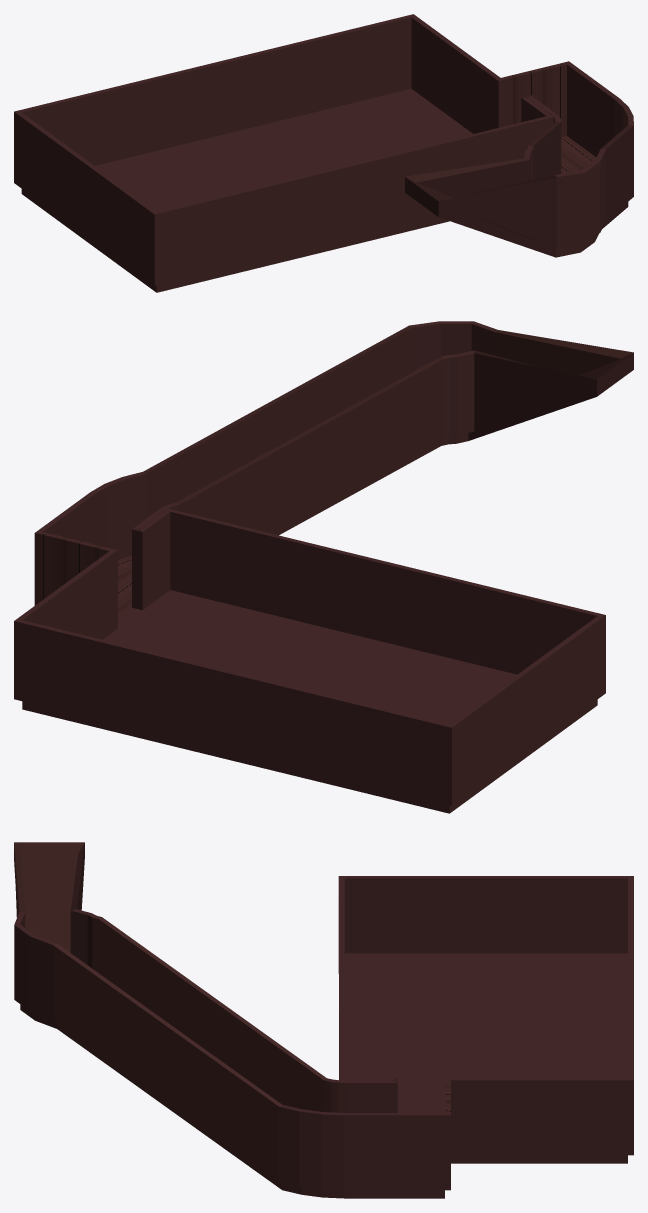
The model's file is HouseCollider.fbx.
The picture shows the model from 3 angles, top to bottom: view 1: azimuth 30°, elevation 25°; view 2: azimuth 150°, elevation 25°; view 3: azimuth 270°, elevation 25°; orthographic projection. The views are drawn at different scales.
Visible parts, largest first — view 1: Cube.010; view 2: Cube.010; view 3: Cube.010.
Boxes of the visible parts, x1,y1,x2,y2 form: Cube.010: (14,14,633,292); Cube.010: (14,321,633,813); Cube.010: (14,842,633,1198).
Bounding box in the file's own units: 4800 × 1730 × 5250.
